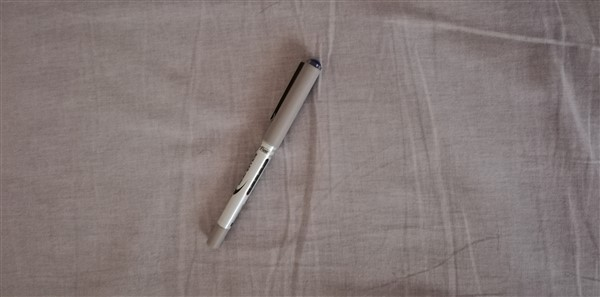pilot kalem: (201, 55, 327, 255)
